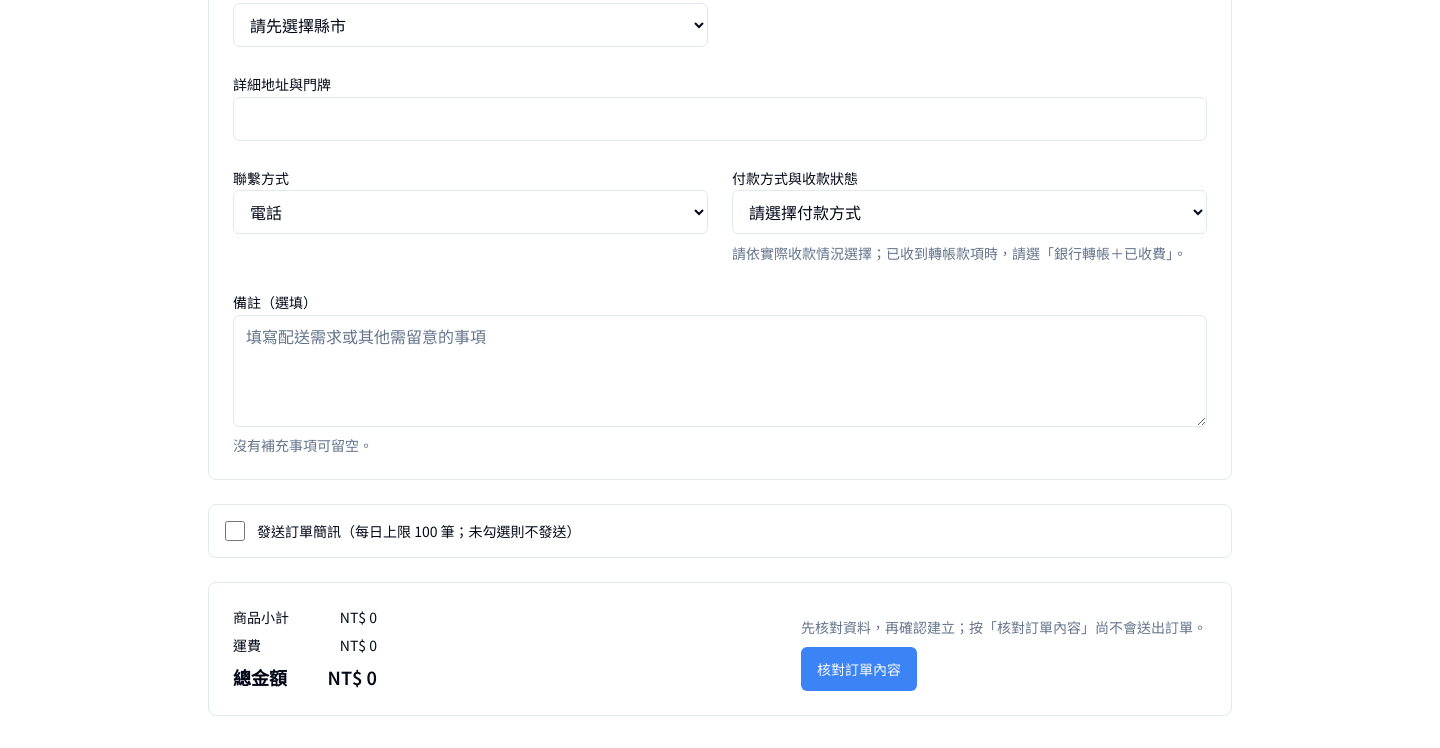
Test: manual form › shows inline validation and sends nothing when customer data is incomplete
The image size is (1440, 748).
(page scrolled)
Click the button "核對訂單內容" at x=859, y=668, box x1=801 y1=646 x2=917 y2=690
(page scrolled)
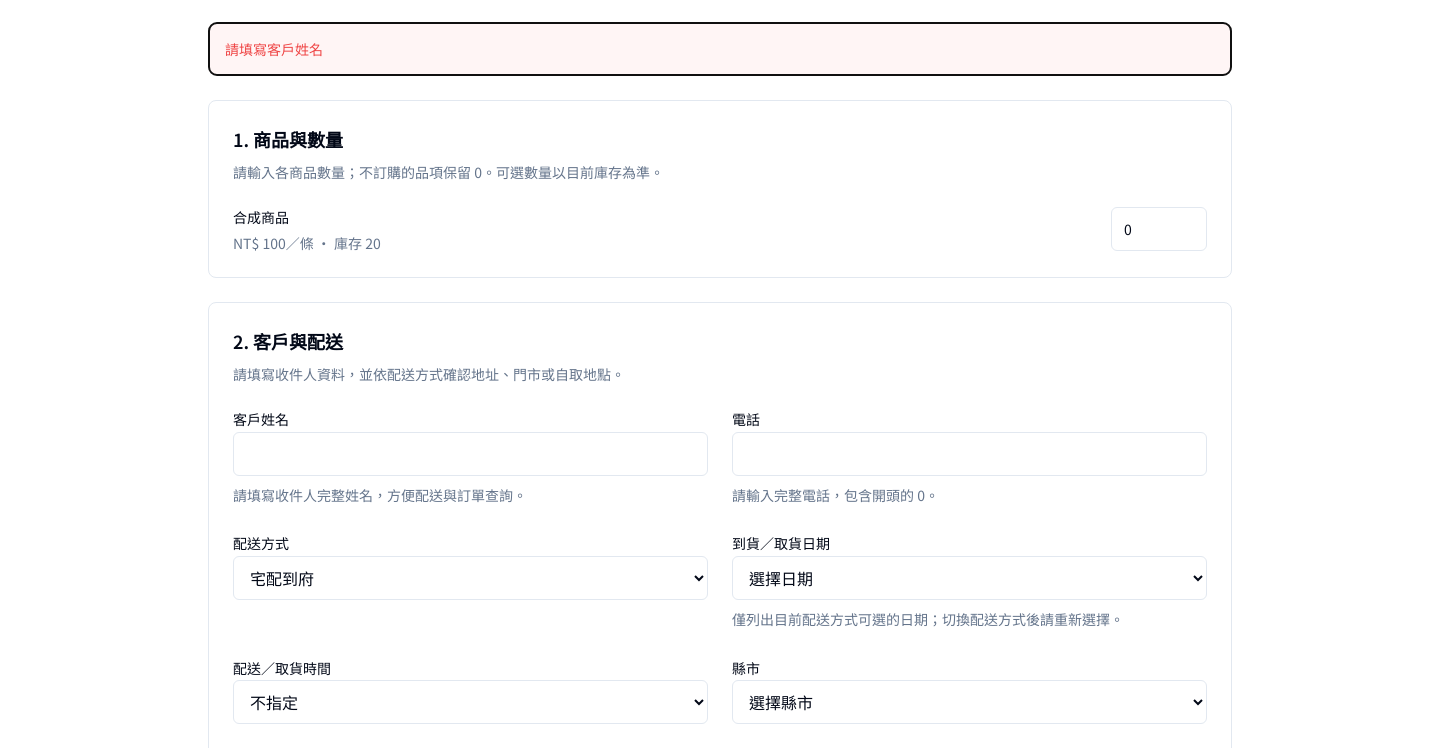
Result: the message shows "客戶姓名" at x1=225 y1=39 x2=323 y2=59
